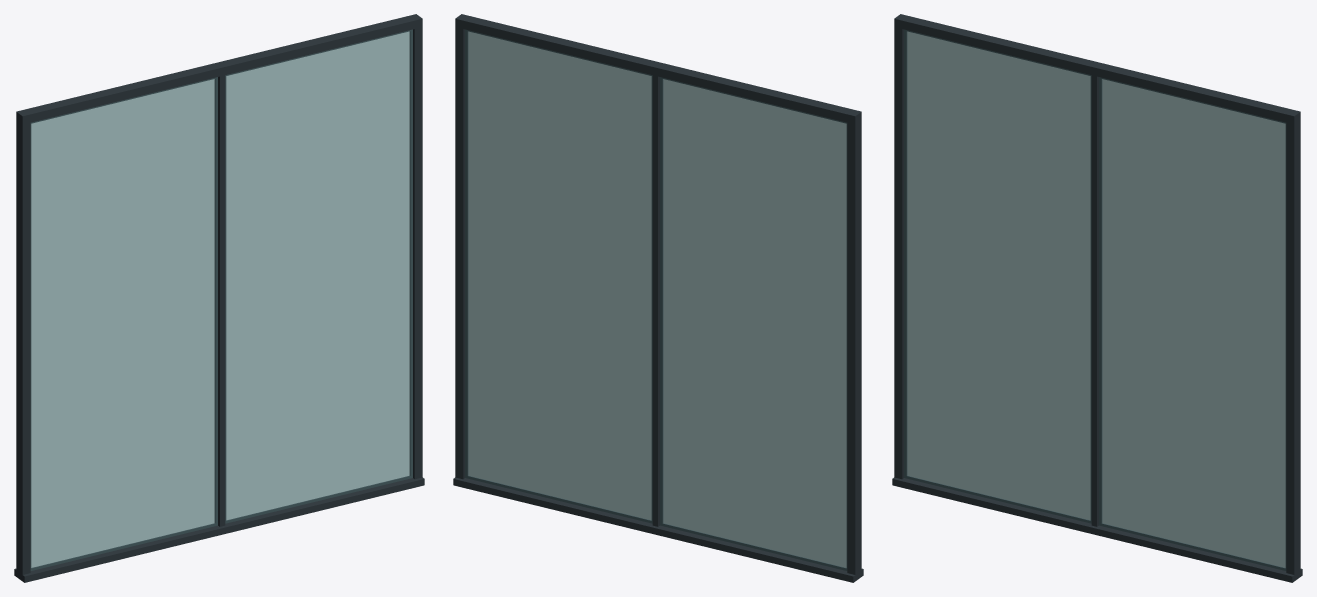
File: screen-partition-glass.glb
The picture shows the model from 3 angles, left to right: view 1: azimuth 30°, elevation 25°; view 2: azimuth 150°, elevation 25°; view 3: azimuth 330°, elevation 25°; orthographic projection.
Visible parts, largest first — view 1: glass-pane-1, glass-pane-2, glass-frame, glass-gaskets, glass-ground-rail; view 2: glass-pane-1, glass-pane-2, glass-frame, glass-gaskets, glass-ground-rail; view 3: glass-pane-2, glass-pane-1, glass-frame, glass-gaskets, glass-ground-rail.
Boxes of the visible parts, box(x1,y1,x2,y2) form: glass-pane-1: box(31, 79, 214, 567); glass-pane-2: box(226, 31, 409, 520); glass-frame: box(16, 14, 422, 575); glass-gaskets: box(30, 29, 412, 570); glass-ground-rail: box(14, 477, 424, 582); glass-pane-1: box(663, 79, 846, 567); glass-pane-2: box(468, 31, 651, 520); glass-frame: box(455, 14, 861, 575); glass-gaskets: box(465, 29, 847, 570); glass-ground-rail: box(453, 477, 863, 582); glass-pane-2: box(1102, 79, 1285, 567); glass-pane-1: box(907, 31, 1090, 520); glass-frame: box(894, 14, 1300, 575); glass-gaskets: box(904, 29, 1286, 570); glass-ground-rail: box(892, 477, 1302, 582).
Size of the model in its own units: 1.8 by 2 by 0.08.
